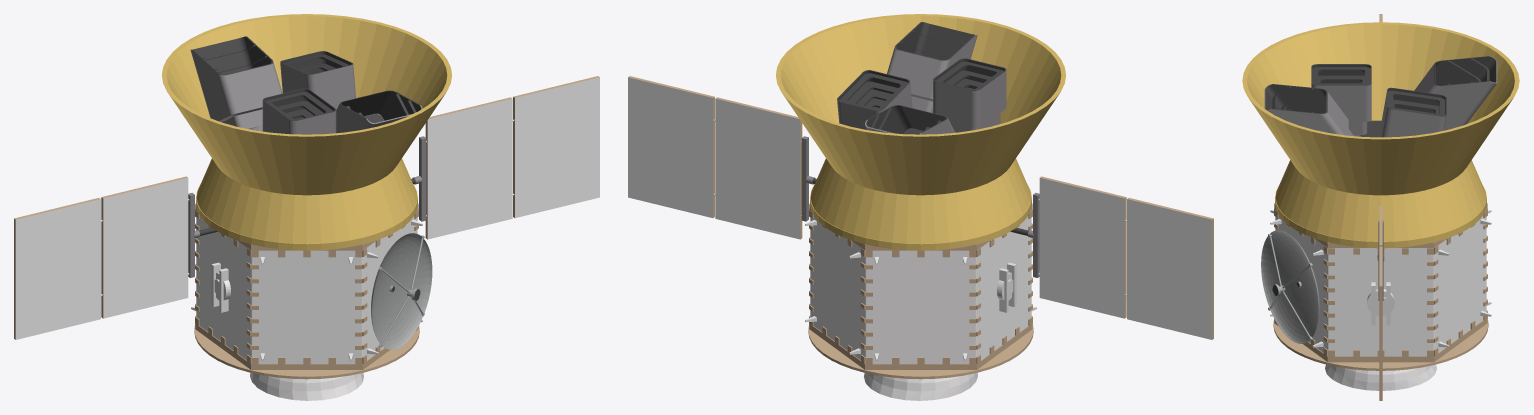
Rendered from tess.glb.
3 renders of one model, left to right at view 1: azimuth 30°, elevation 25°; view 2: azimuth 150°, elevation 25°; view 3: azimuth 270°, elevation 25°, orthographic. The views are drawn at different scales.
Visible parts, largest first — view 1: Layer_0; view 2: Layer_0; view 3: Layer_0.
Boxes of the visible parts, left/top/right/bottom form: Layer_0: left=14, top=14, right=599, bottom=400; Layer_0: left=628, top=14, right=1213, bottom=400; Layer_0: left=1242, top=14, right=1519, bottom=400.
Size of the model in its own units: 37.1 by 18.27 by 15.97.
3 materials, 3 textured.
